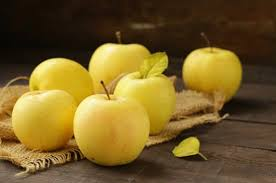apple: (74, 97, 149, 165), (116, 70, 178, 132), (11, 90, 74, 148), (182, 45, 245, 102), (90, 39, 155, 93), (29, 59, 94, 107)
